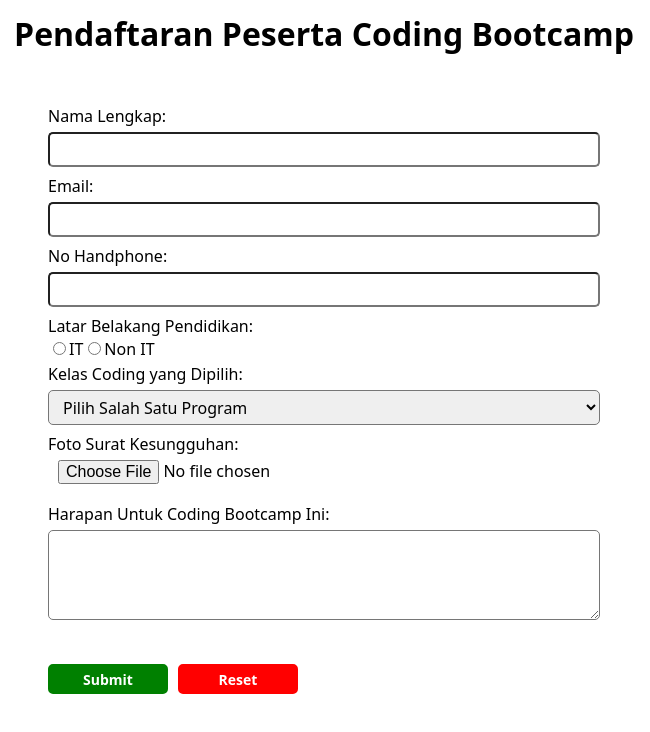
Test: FormCoding › Testing error input Nama Lengkap
The width and height of the screenshot is (650, 732).
Type "loremlorem1" into the field labelled "Nama Lengkap:" at (324, 150), box x1=48 y1=132 x2=600 y2=167
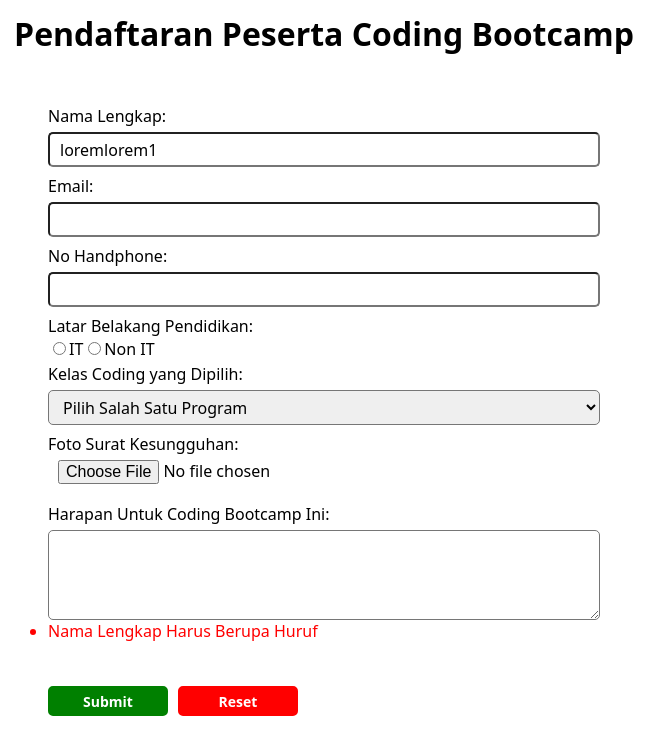
Expected: the list item "Nama Lengkap Harus Berupa Huruf" is shown, x1=48 y1=620 x2=318 y2=642
